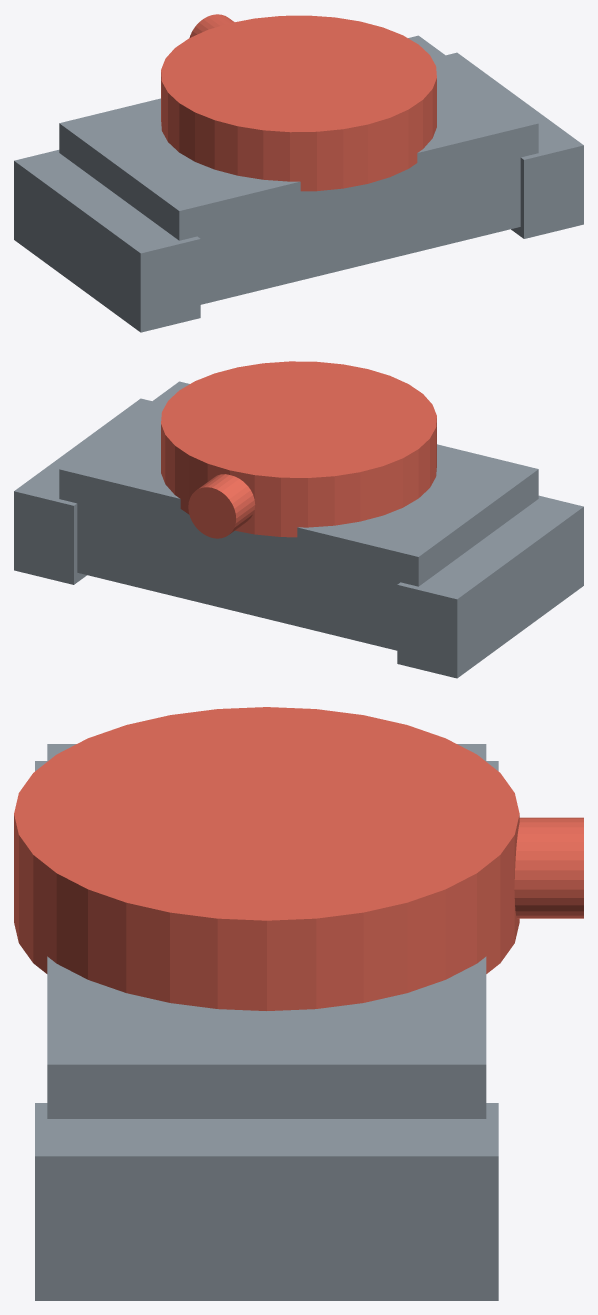
The model's file is SU_RysScout_LOD0.glb.
3 views of the same model, one above another, from view 1: azimuth 30°, elevation 25°; view 2: azimuth 150°, elevation 25°; view 3: azimuth 270°, elevation 25° (orthographic). The views are drawn at different scales.
Parts seen in each view (by area): view 1: Chassis; view 2: Chassis; view 3: Chassis.
Boxes of the visible parts, x1,y1,x2,y2 form: Chassis: (14, 14, 583, 332); Chassis: (14, 361, 583, 678); Chassis: (14, 707, 583, 1300).
Size of the model in its own units: 422 by 144 by 257.
